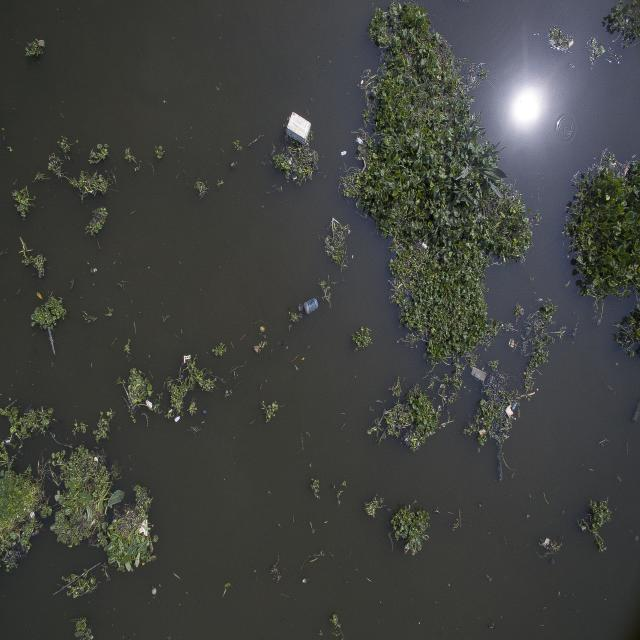plastic: (277, 105, 331, 161), (297, 291, 331, 322), (140, 386, 159, 418), (140, 510, 154, 549), (503, 394, 520, 424), (180, 350, 201, 370)
